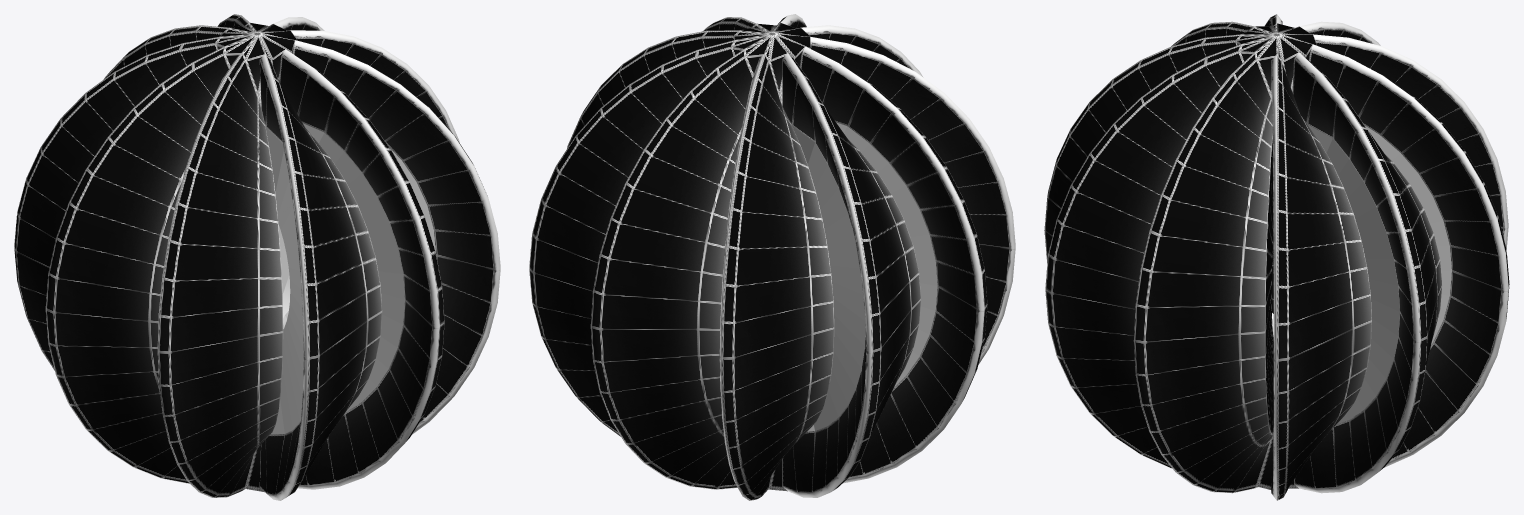
File: basicball_mesh.fbx
3 renders of one model, left to right at view 1: azimuth 30°, elevation 25°; view 2: azimuth 150°, elevation 25°; view 3: azimuth 270°, elevation 25°, orthographic.
Visible parts, largest first — view 1: pSphere94; view 2: pSphere94; view 3: pSphere94.
Part boxes in pixels (<box>): pSphere94: <box>14,14,500,500</box>; pSphere94: <box>529,14,1015,500</box>; pSphere94: <box>1044,14,1509,500</box>.
Size of the model in its own units: 9.1 by 9.2 by 8.69.
